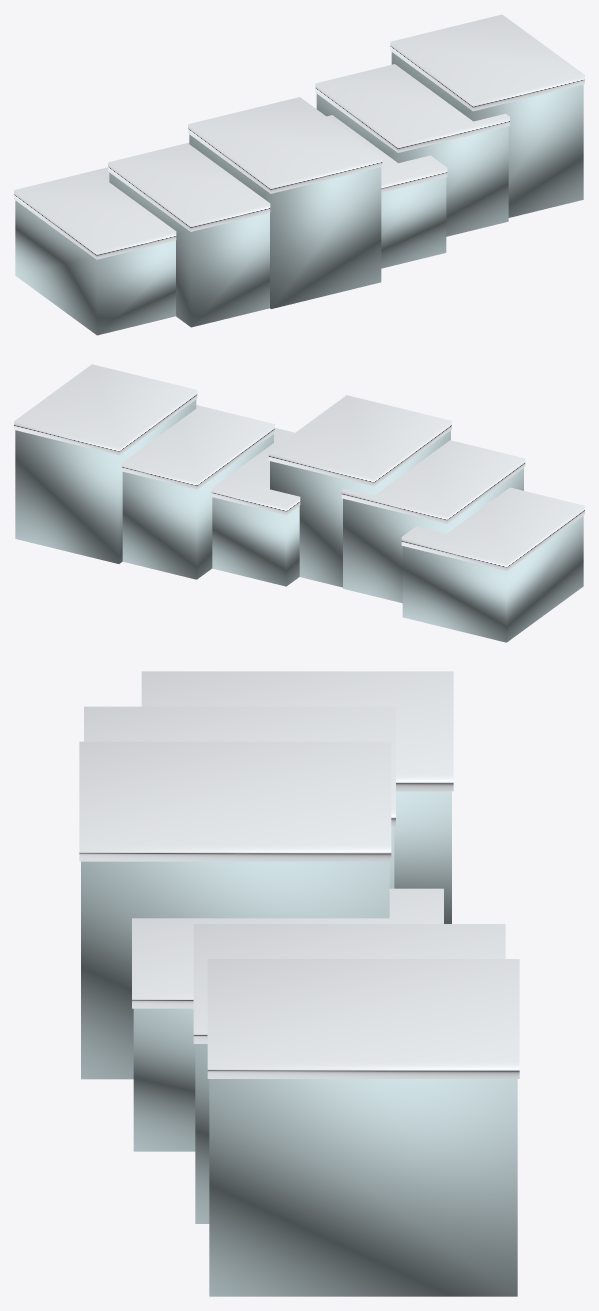
File: glacier_low.glb
The picture shows the model from 3 angles, top to bottom: view 1: azimuth 30°, elevation 25°; view 2: azimuth 150°, elevation 25°; view 3: azimuth 270°, elevation 25°; orthographic projection. The views are drawn at different scales.
Bounding box in the file's own units: 32.1 × 7.57 × 12.84.
